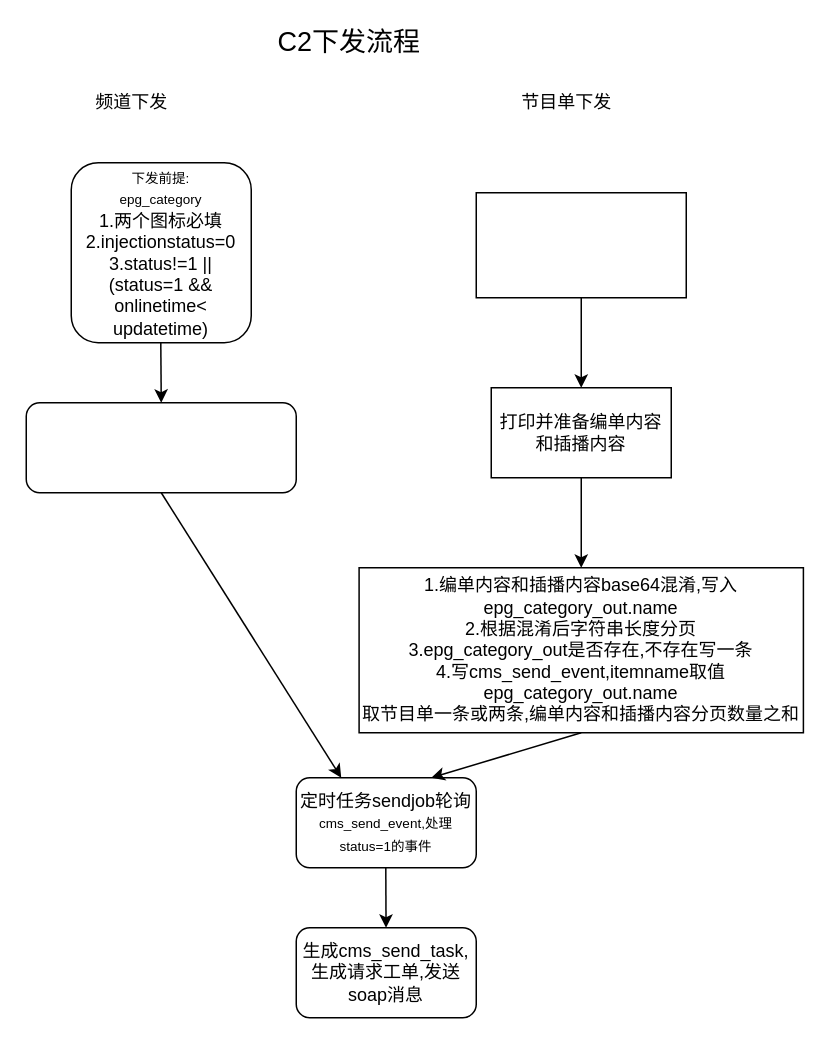
Some shapes in this 831 by 1044 pixel diagram are drawn without their labels. The centre of each missing label's shape, as x and y in pixels:
"1.对应频道下发成功 2.节目单不为正在下发 3.编单内容要有且要编满24h" belongs at point 580,244.
"epg_category.injectionstatus!=2 写cms_send_event" belongs at point 160,447.
